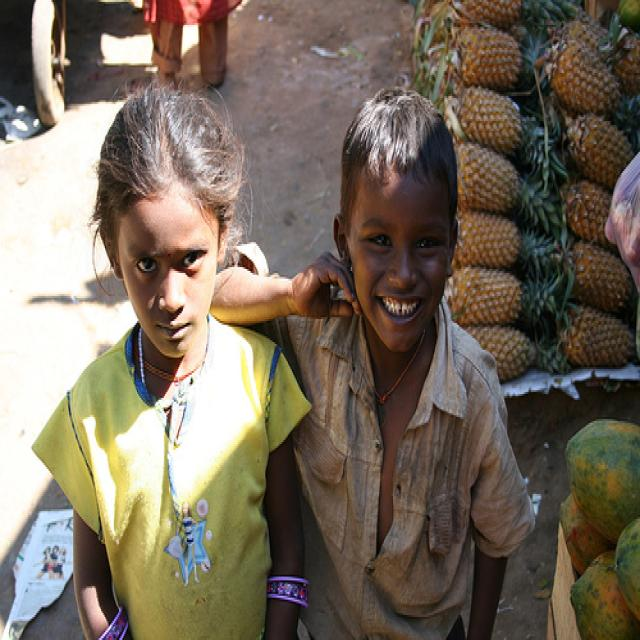person: (210, 89, 535, 639), (43, 78, 308, 639), (144, 1, 244, 93)
